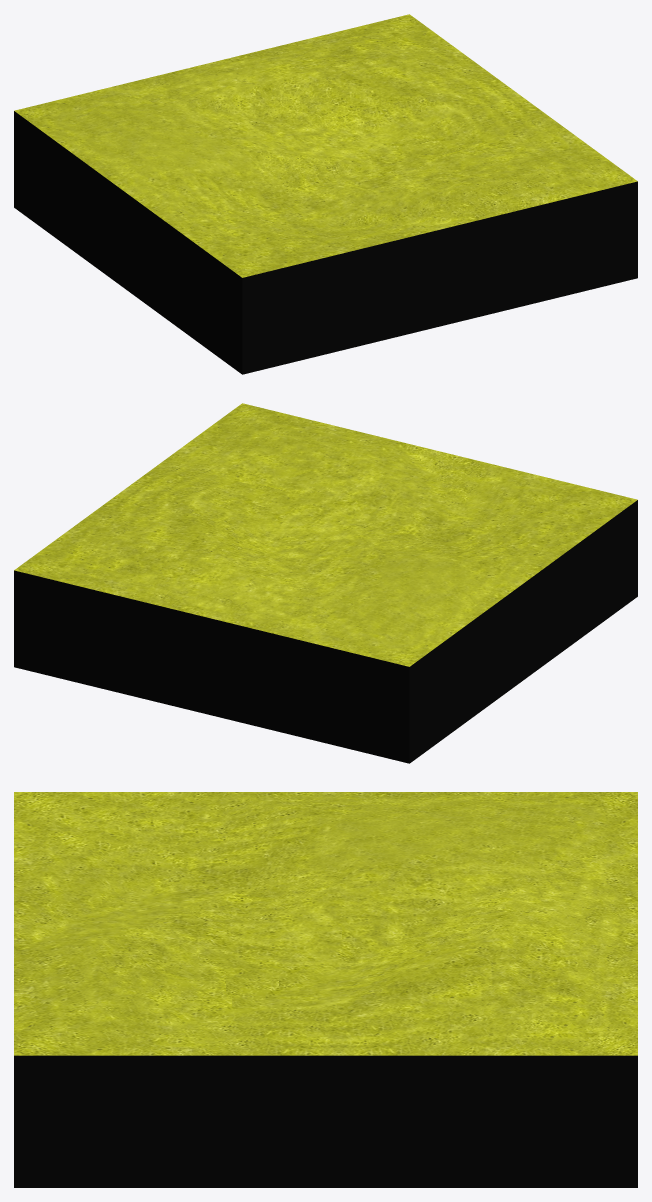
Rendered from Terrace_Mid_01.fbx.
3 renders of one model, top to bottom at view 1: azimuth 30°, elevation 25°; view 2: azimuth 150°, elevation 25°; view 3: azimuth 270°, elevation 25°, orthographic. The views are drawn at different scales.
Visible parts, largest first — view 1: pCube9; view 2: pCube9; view 3: pCube9.
Boxes of the visible parts, x1,y1,x2,y2 form: pCube9: (14,14,637,374); pCube9: (14,403,637,763); pCube9: (14,792,637,1187).
Size of the model in its own units: 14.14 by 3.72 by 14.14.
Materials: 1 (1 with a texture image).
